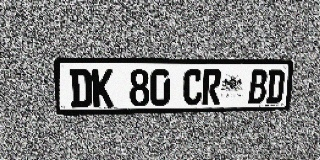0: (150, 69, 170, 106)
8: (130, 69, 150, 106)
B: (248, 69, 268, 104)
C: (183, 69, 203, 105)
D: (69, 69, 92, 108), (265, 70, 285, 104)
K: (92, 69, 114, 107)
R: (202, 69, 222, 105)
